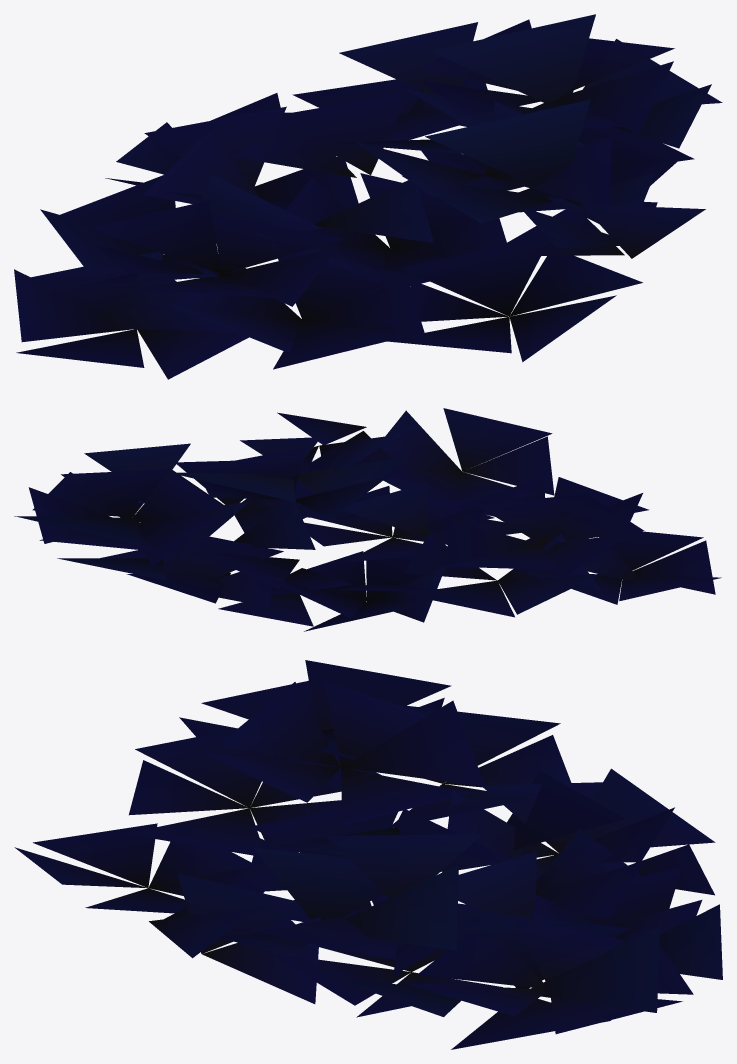
File: TSI_Water_Plant_02A.fbx
The picture shows the model from 3 angles, top to bottom: view 1: azimuth 30°, elevation 25°; view 2: azimuth 150°, elevation 25°; view 3: azimuth 270°, elevation 25°; orthographic projection. The views are drawn at different scales.
Visible parts, largest first — view 1: TSI_Water_Plant_02A_LOD0; view 2: TSI_Water_Plant_02A_LOD0; view 3: TSI_Water_Plant_02A_LOD0.
Part boxes in pixels (box(x1,y1,x2,y2)): TSI_Water_Plant_02A_LOD0: box(14, 14, 722, 379); TSI_Water_Plant_02A_LOD0: box(14, 408, 721, 631); TSI_Water_Plant_02A_LOD0: box(14, 660, 722, 1049).
Size of the model in its own units: 544 by 42.1 by 417.
